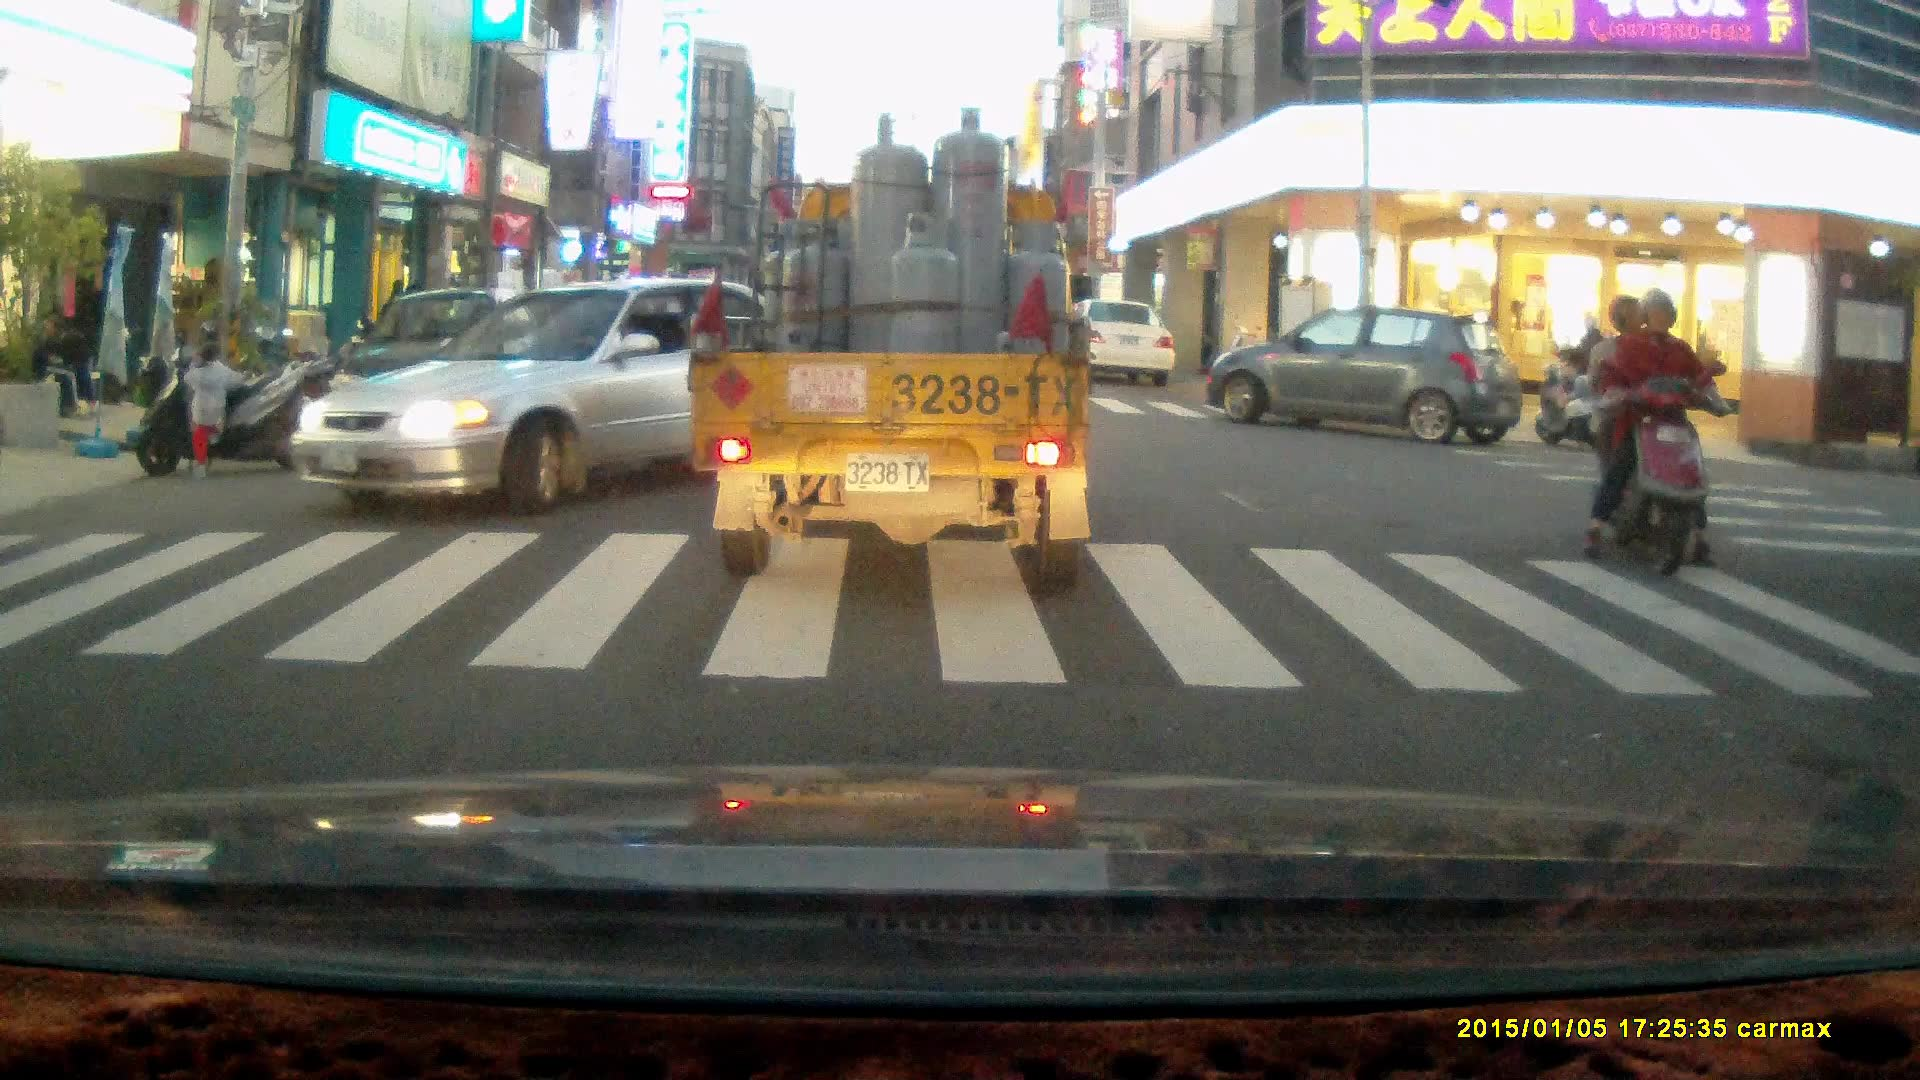pedestrian: (181, 342, 247, 480)
rider: (1575, 287, 1726, 577), (1549, 308, 1632, 432)
vehicle: (682, 107, 1090, 595), (294, 277, 845, 517), (1205, 307, 1516, 446), (323, 286, 553, 441), (1062, 299, 1182, 382)
